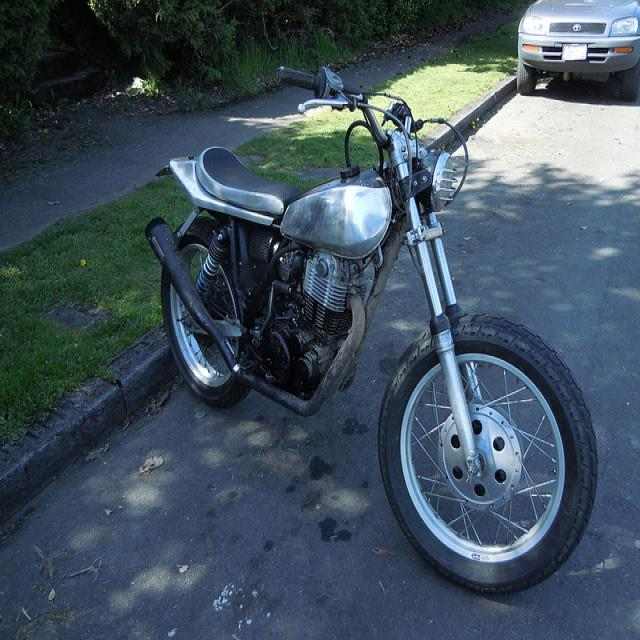motor: (141, 62, 602, 595)
